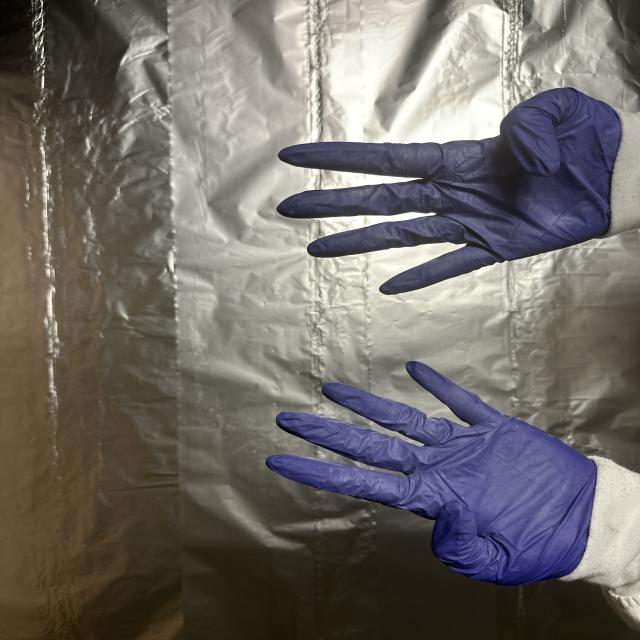gloves_contaminated: (267, 362, 596, 585), (278, 89, 622, 294)
